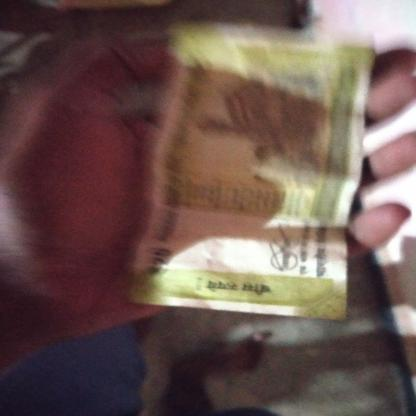New20Back: (141, 20, 353, 312)
